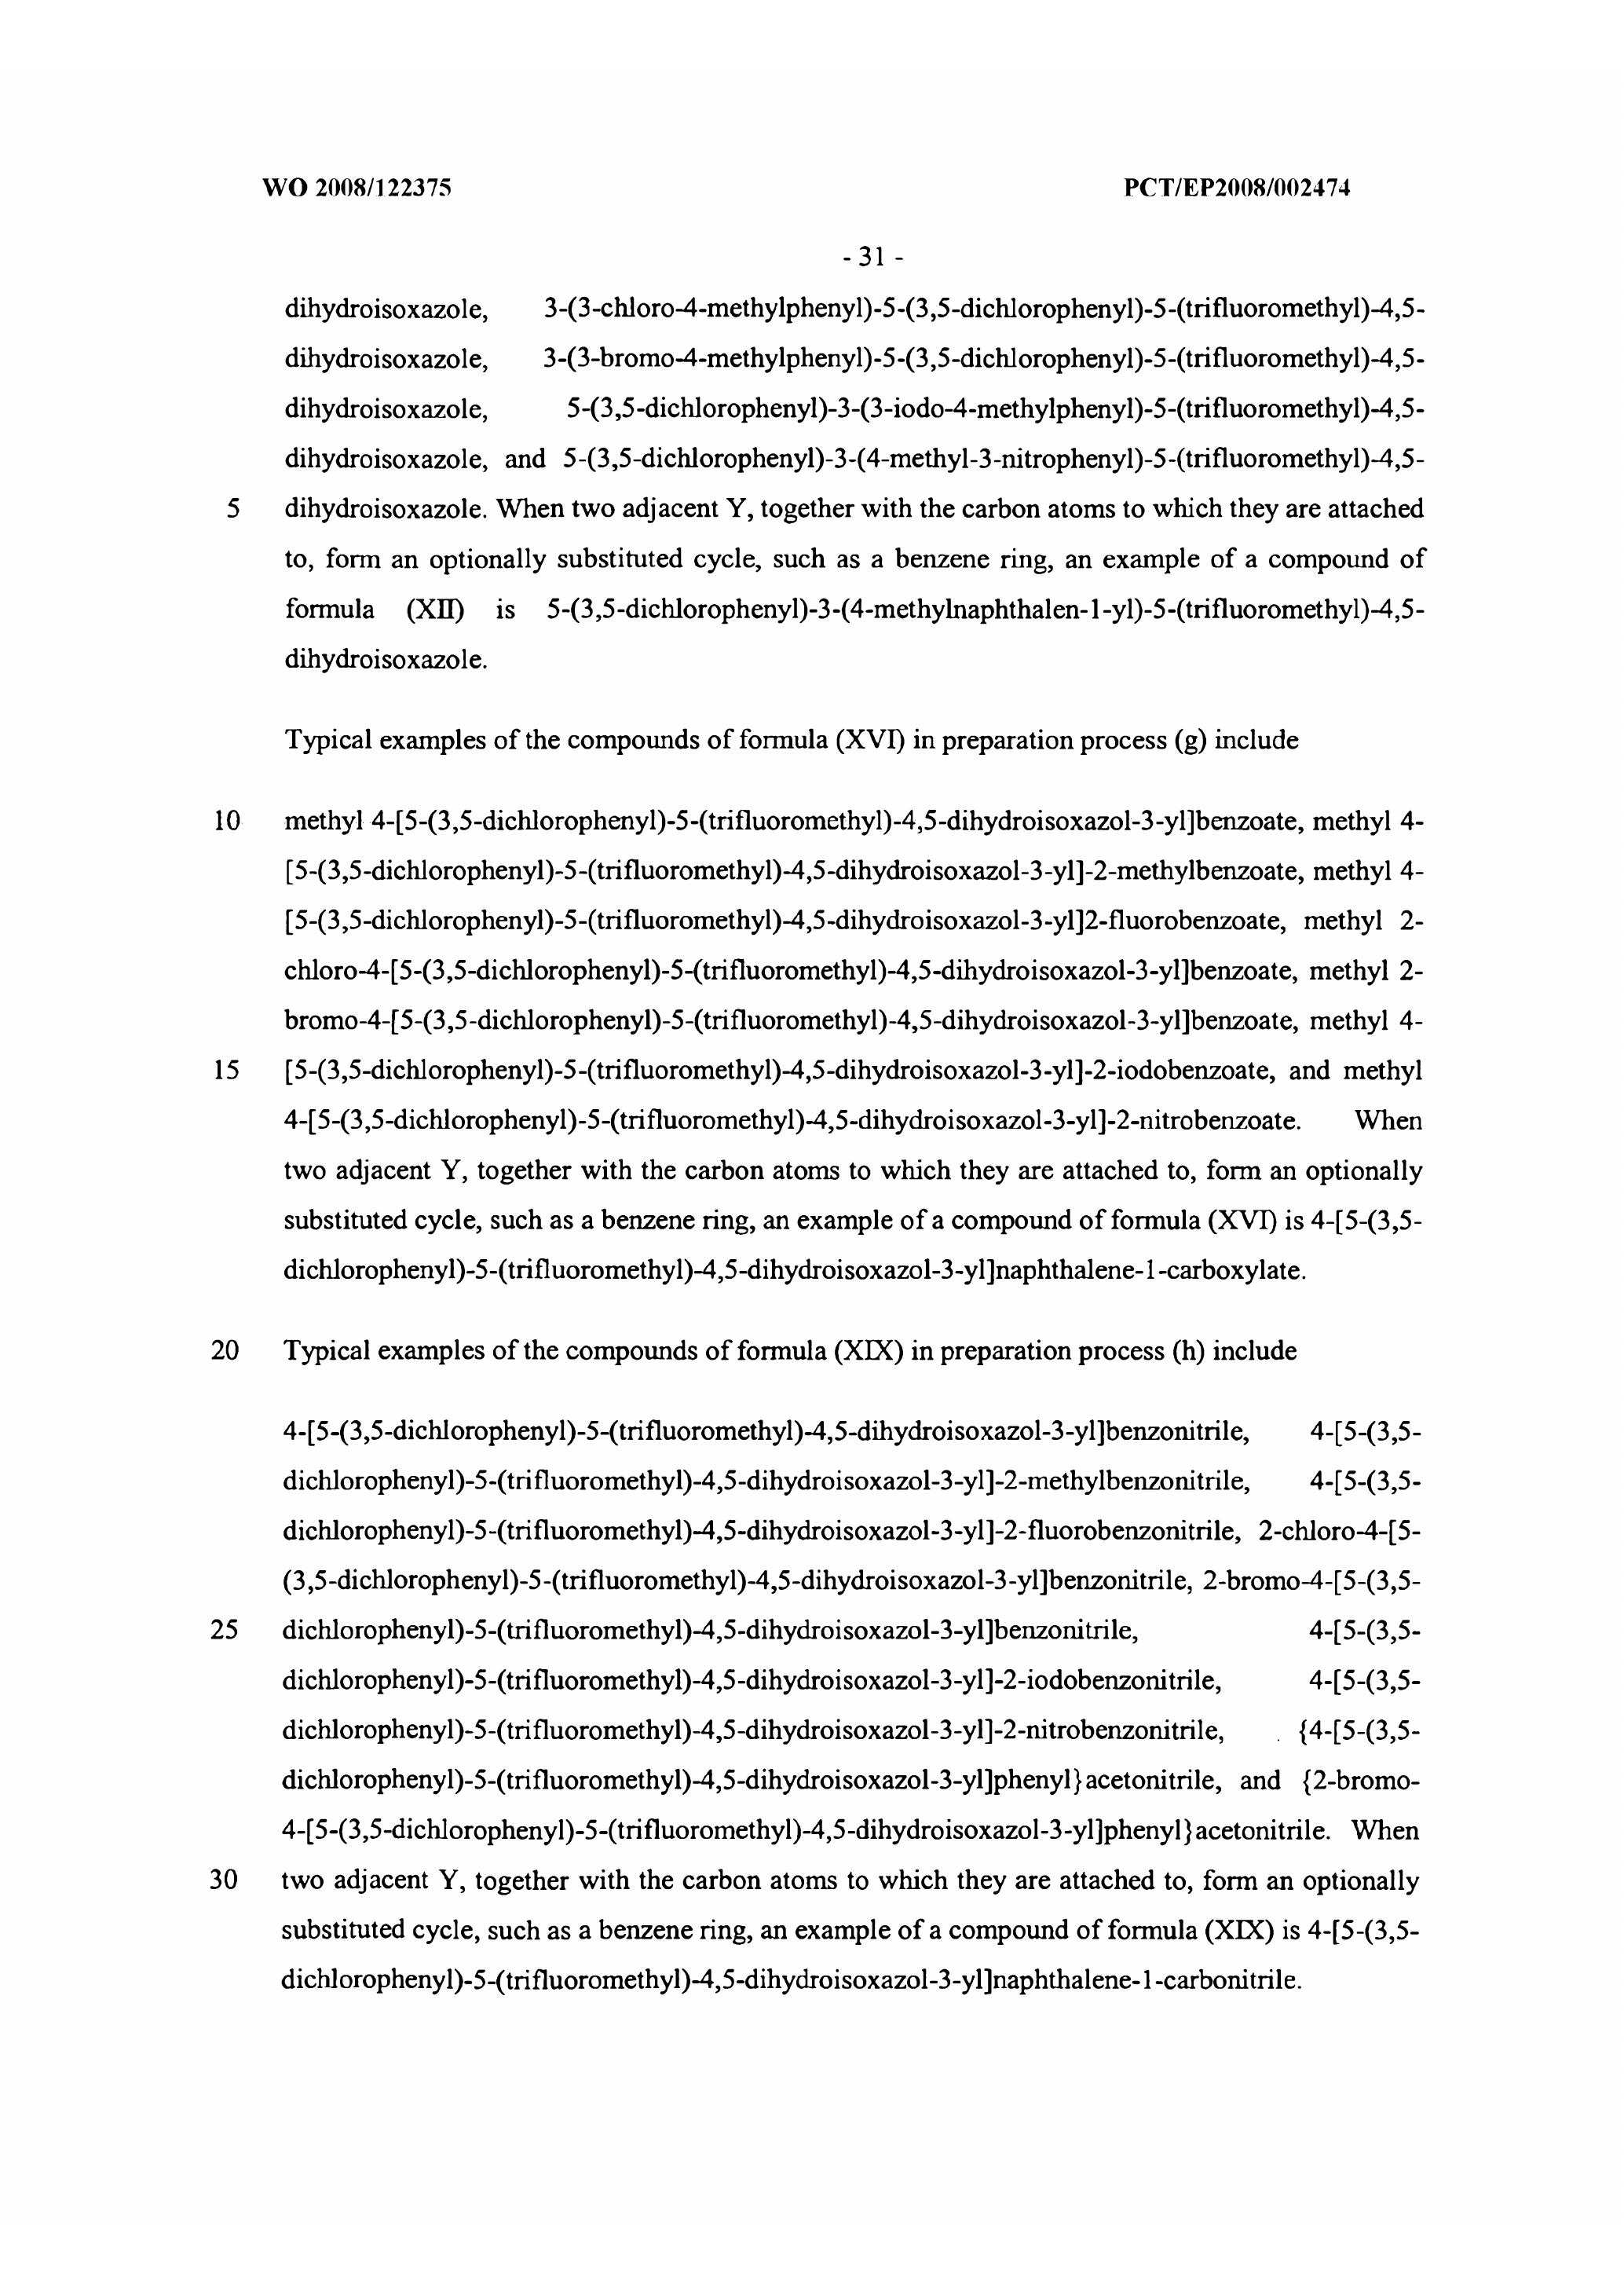substitutes: (271, 802, 1436, 1289)
